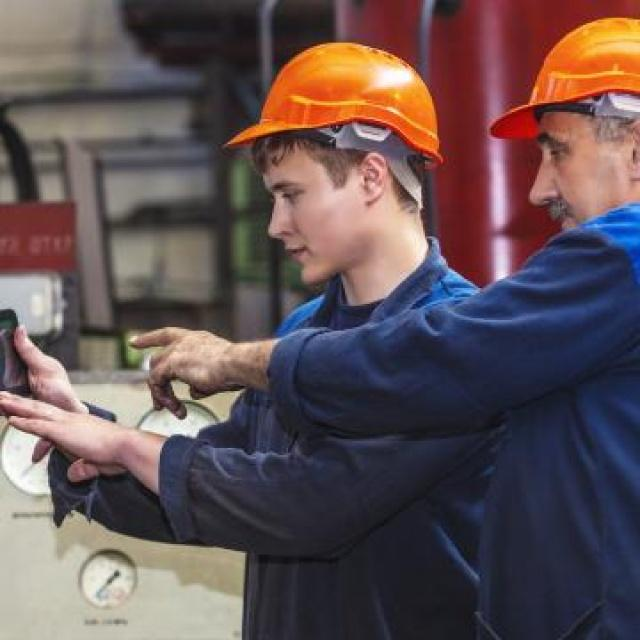helmet: (222, 53, 442, 380), (489, 18, 640, 310)
